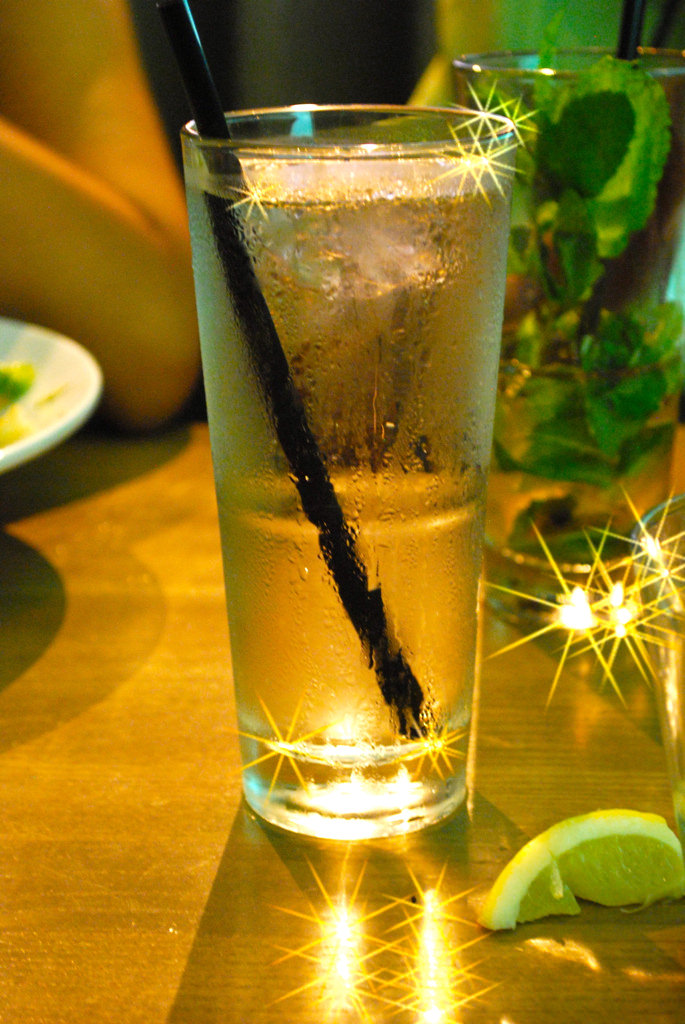glass of water: (167, 112, 500, 832)
